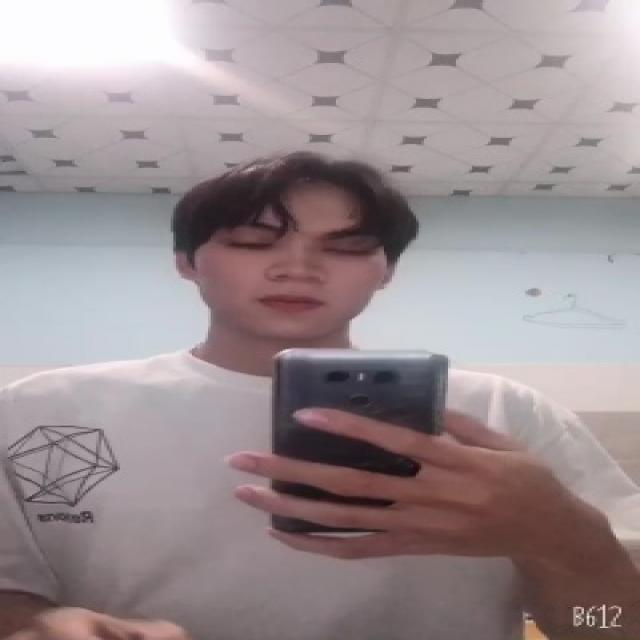Phone: (266, 345, 448, 533)
